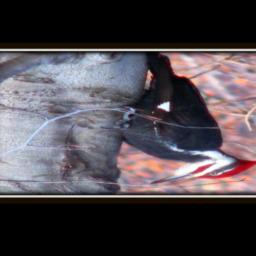Woodpecker: (99, 51, 256, 184)
